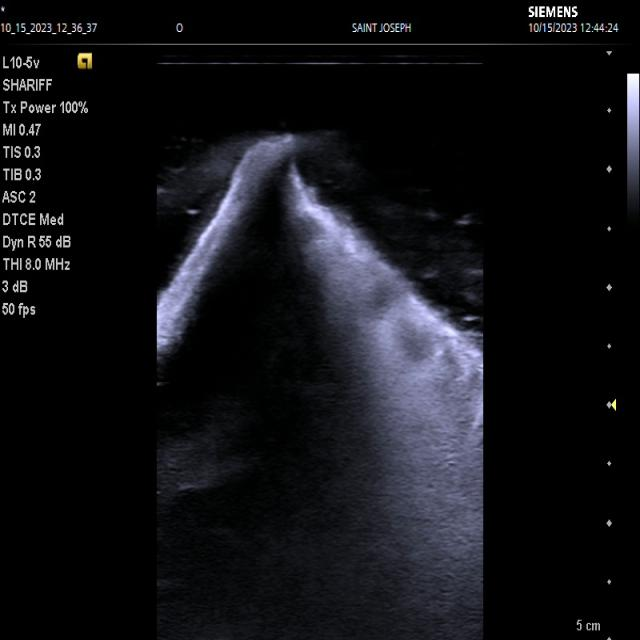tissue: (158, 135, 484, 640)
